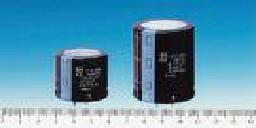Electrolytic Capacitor: (129, 18, 213, 106), (51, 45, 119, 108)
